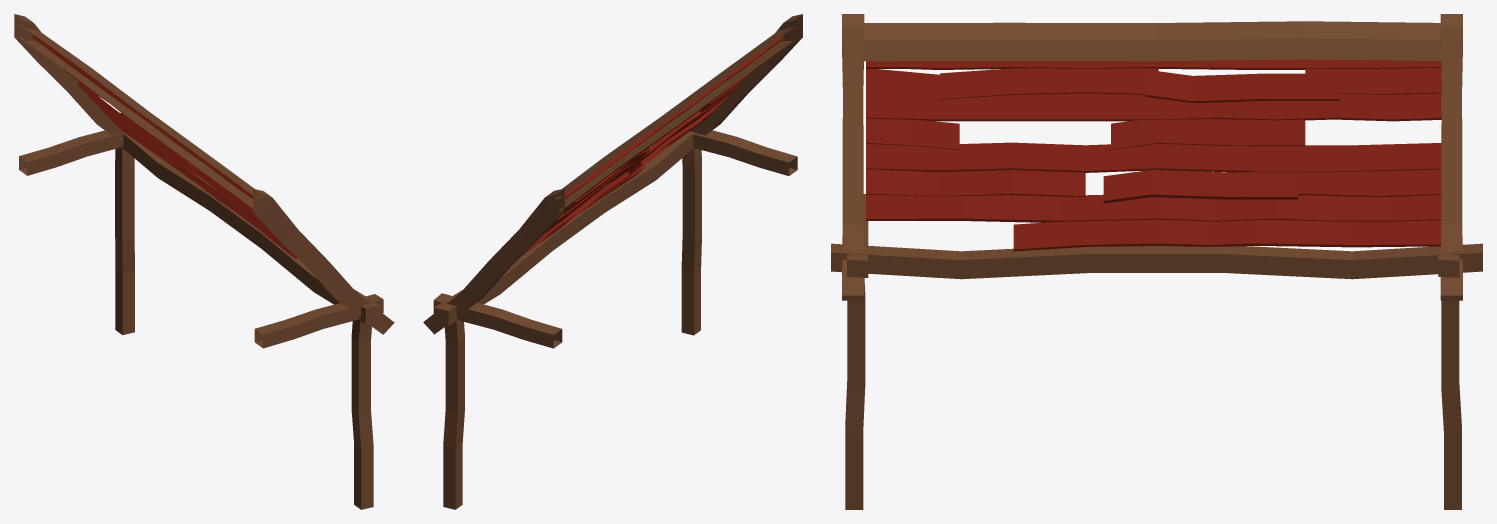
The model's file is cati.fbx.
3 views of the same model, side by side, from view 1: azimuth 30°, elevation 25°; view 2: azimuth 150°, elevation 25°; view 3: azimuth 270°, elevation 25° (orthographic). The views are drawn at different scales.
Visible parts, largest first — view 1: cati.001; view 2: cati.001; view 3: cati.001.
Boxes of the visible parts, <box> form: cati.001: <box>14,14,394,509</box>; cati.001: <box>423,14,802,509</box>; cati.001: <box>831,14,1482,509</box>.
Bounding box in the file's own units: 296 × 726 × 1005.
